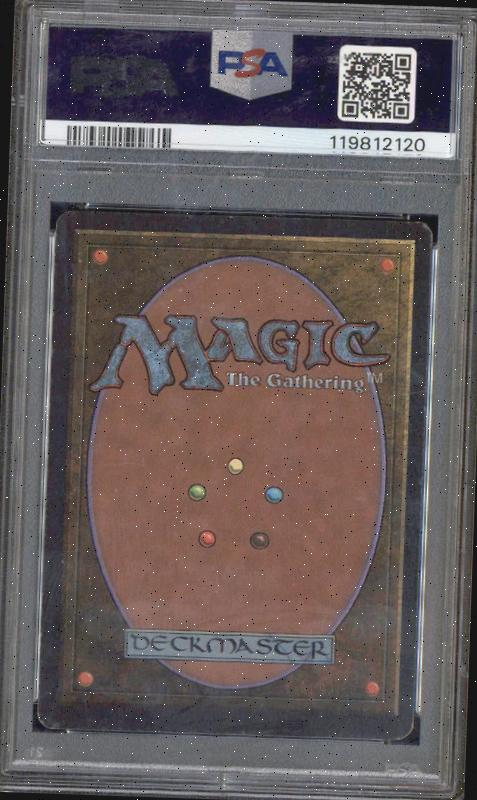card-2UtV: (36, 211, 432, 740)
